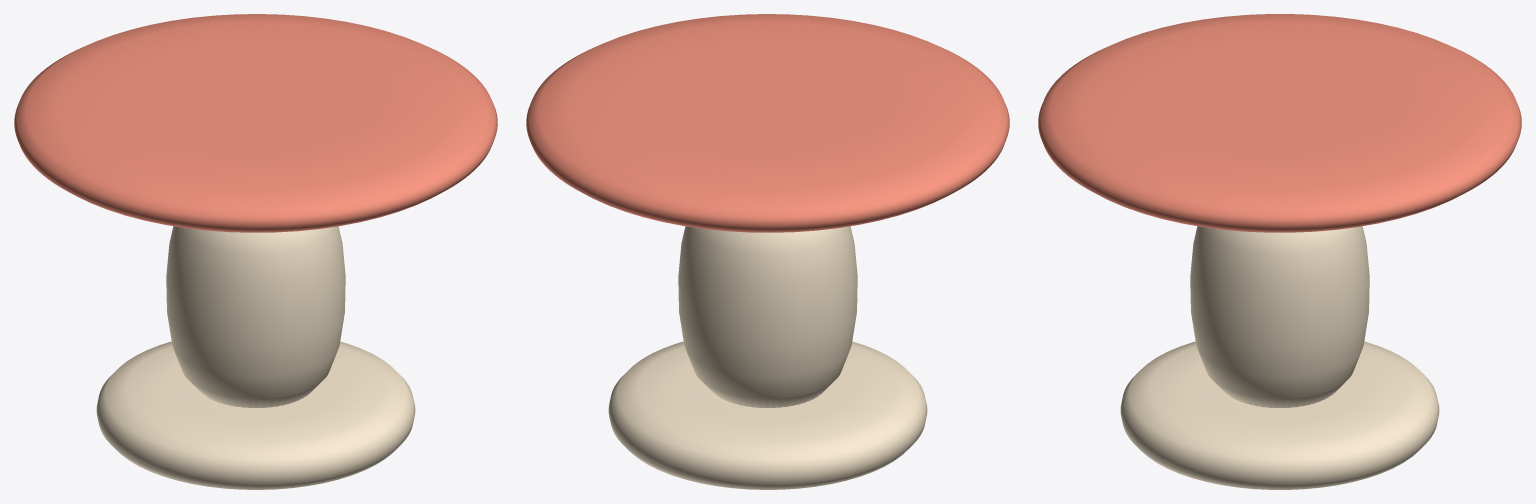
The model's file is table_c.glb.
The picture shows the model from 3 angles, left to right: view 1: azimuth 30°, elevation 25°; view 2: azimuth 150°, elevation 25°; view 3: azimuth 270°, elevation 25°; orthographic projection.
Parts seen in each view (by area): view 1: body; view 2: body; view 3: body.
Boxes of the visible parts, x1,y1,x2,y2 form: body: (14, 14, 497, 489); body: (526, 14, 1009, 489); body: (1038, 14, 1521, 489).
Size of the model in its own units: 0.9951 by 0.75 by 0.9951.
